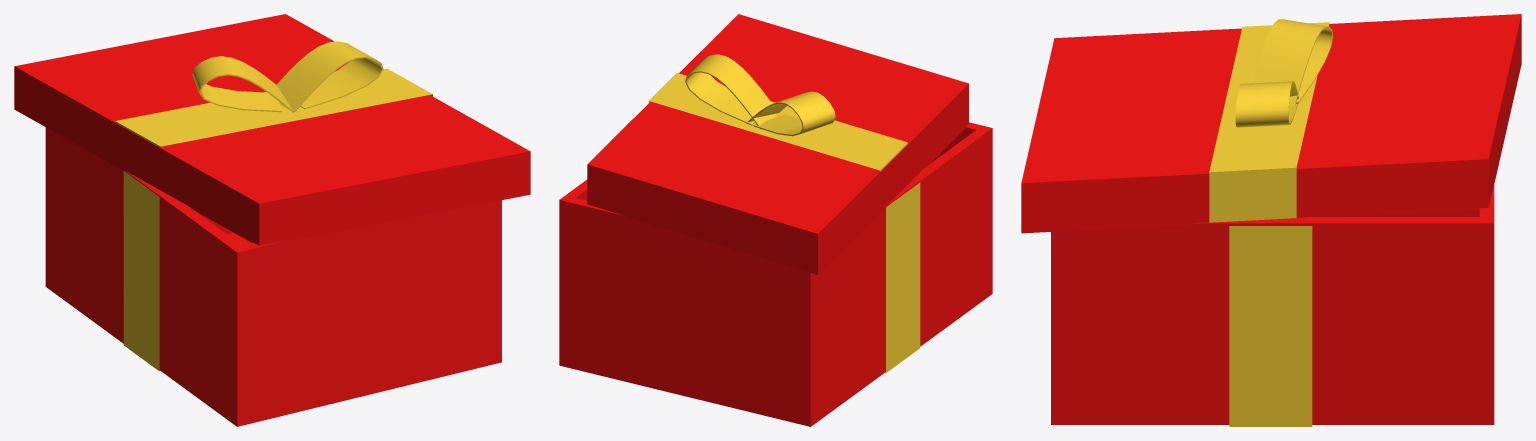
File: gift_box.FBX
The picture shows the model from 3 angles, left to right: view 1: azimuth 30°, elevation 25°; view 2: azimuth 150°, elevation 25°; view 3: azimuth 270°, elevation 25°; orthographic projection. The views are drawn at different scales.
Visible parts, largest first — view 1: Box002, Line002; view 2: Box002, Line002; view 3: Line002, Box002.
Part boxes in pixels (x1,y1,x2,y2): Box002: (45, 127, 501, 426); Line002: (14, 14, 530, 245); Box002: (559, 122, 992, 426); Line002: (587, 14, 968, 274); Line002: (1021, 14, 1521, 233); Box002: (1051, 184, 1494, 426).
Size of the model in its own units: 7.98 by 6.65 by 9.96.
